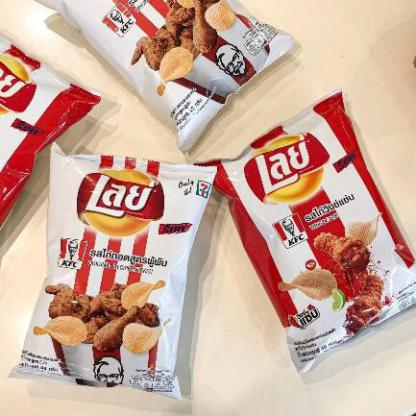potatochip: (189, 87, 415, 379), (10, 143, 216, 404), (32, 0, 301, 160), (0, 29, 103, 256)
